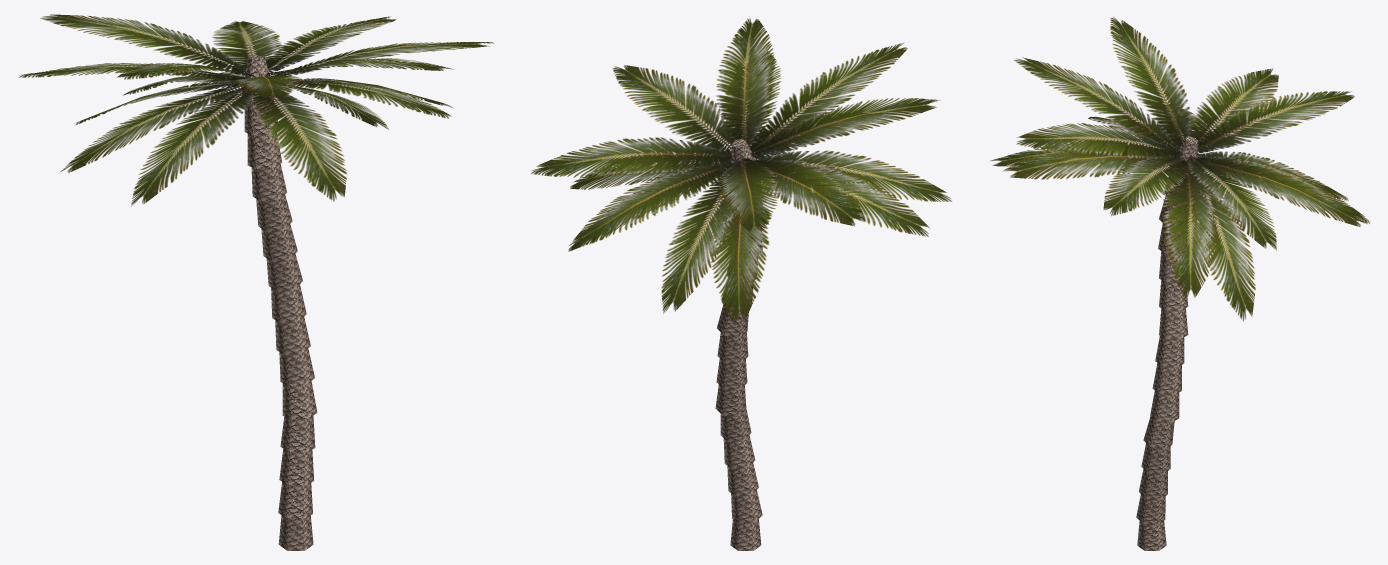
Rendered from palm.glb.
3 renders of one model, left to right at view 1: azimuth 30°, elevation 25°; view 2: azimuth 150°, elevation 25°; view 3: azimuth 270°, elevation 25°, orthographic. The views are drawn at different scales.
Visible parts, largest first — view 1: palm_tree.004; view 2: palm_tree.004; view 3: palm_tree.004.
Boxes of the visible parts, box(x1,y1,x2,y2) form: palm_tree.004: box(19, 14, 493, 550); palm_tree.004: box(531, 18, 952, 550); palm_tree.004: box(990, 17, 1369, 550).
Bounding box in the file's own units: 11.33 × 14.17 × 11.12.
Materials: 2 (2 with a texture image).
